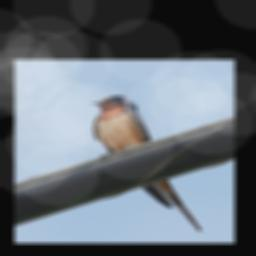Swallow: (91, 94, 202, 231)
